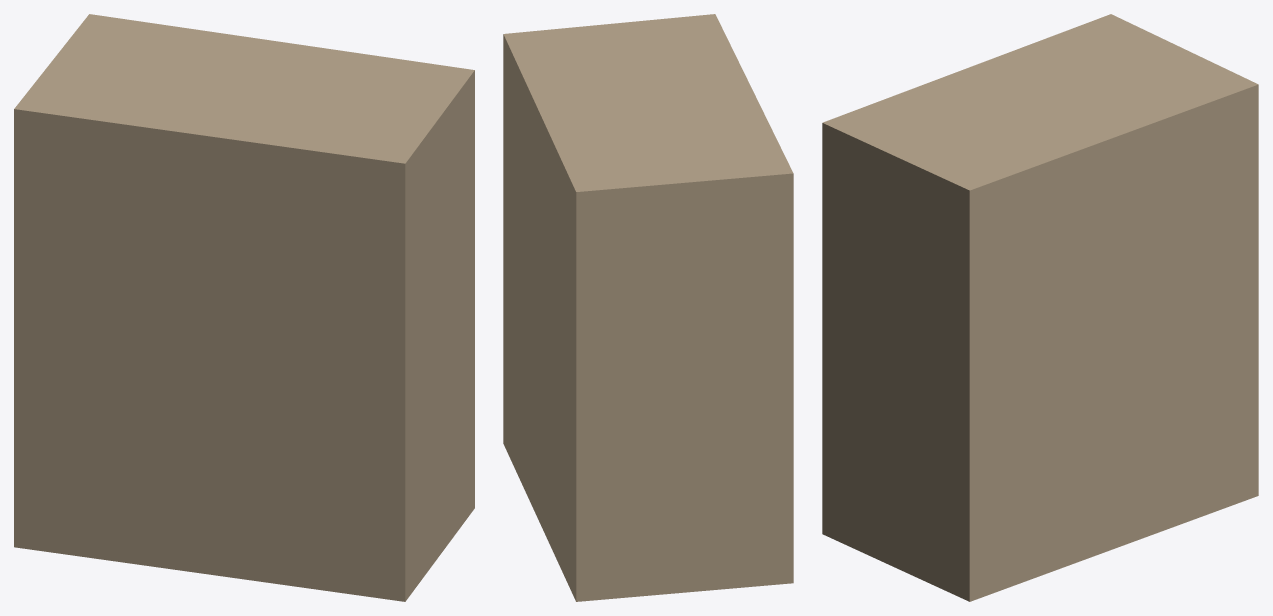
Rendered from bld_100478258.dae.
3 renders of one model, left to right at view 1: azimuth 30°, elevation 25°; view 2: azimuth 150°, elevation 25°; view 3: azimuth 270°, elevation 25°, orthographic. The views are drawn at different scales.
Visible parts, largest first — view 1: bld_100478258; view 2: bld_100478258; view 3: bld_100478258.
Boxes of the visible parts, <box> form: bld_100478258: <box>14,14,474,601</box>; bld_100478258: <box>503,14,793,601</box>; bld_100478258: <box>822,14,1258,601</box>.
Size of the model in its own units: 7.36 by 7.69 by 8.
